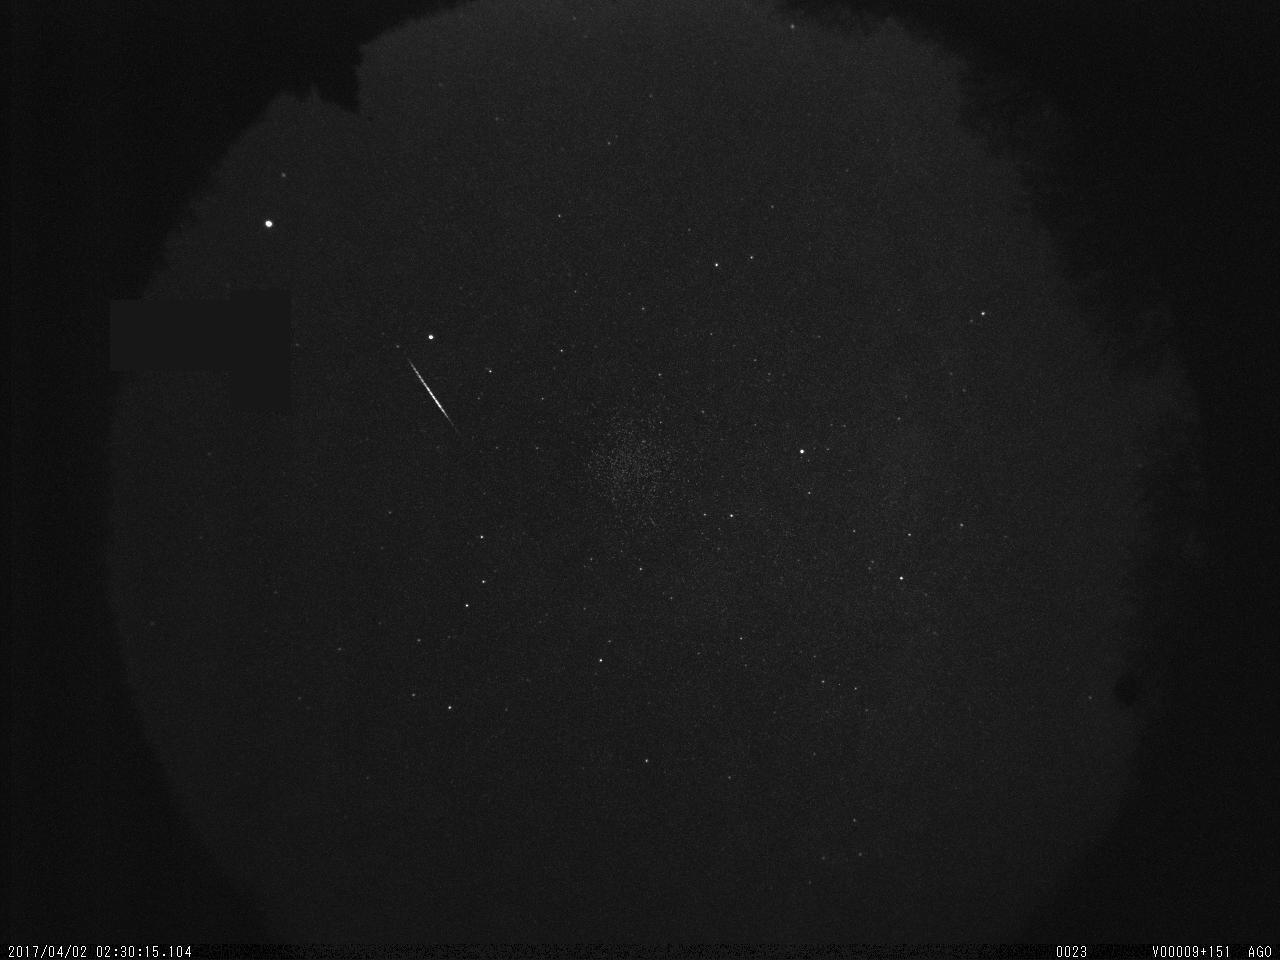meteor: (401, 354, 473, 435)
